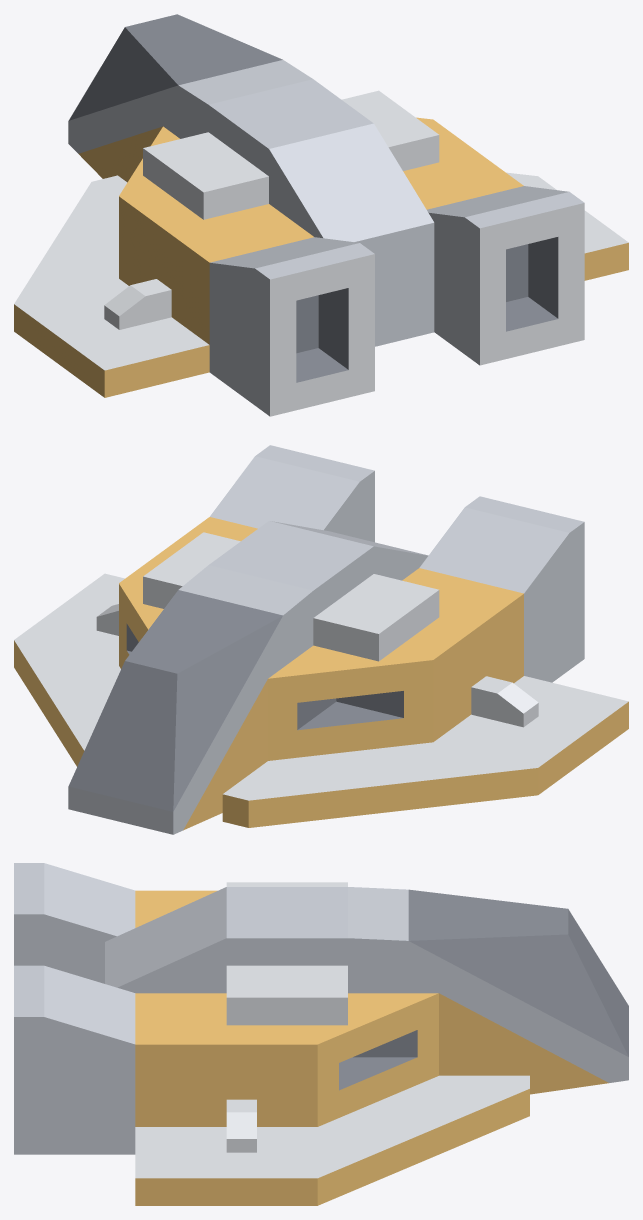
File: craft_speederB.glb
3 views of the same model, one above another, from view 1: azimuth 30°, elevation 25°; view 2: azimuth 150°, elevation 25°; view 3: azimuth 270°, elevation 25° (orthographic).
Visible parts, largest first — view 1: craft_speederB; view 2: craft_speederB; view 3: craft_speederB.
Part boxes in pixels (bbox=[...]): craft_speederB: bbox=[14, 14, 628, 416]; craft_speederB: bbox=[14, 445, 628, 834]; craft_speederB: bbox=[14, 863, 628, 1205].
Size of the model in its own units: 2 by 0.6 by 2.03.
1 material, 1 textured.
